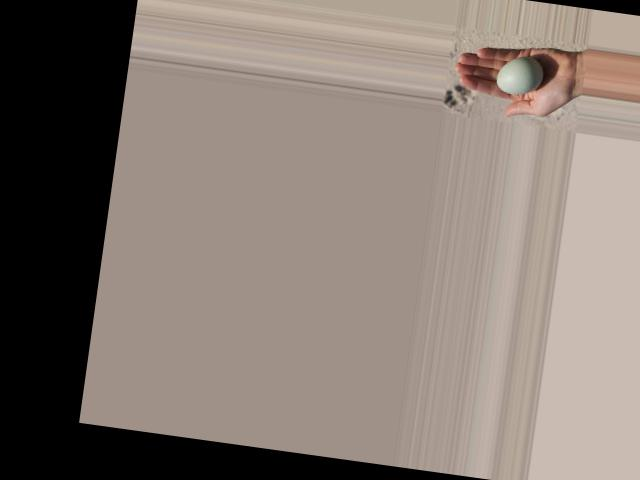egg: (493, 53, 544, 97)
